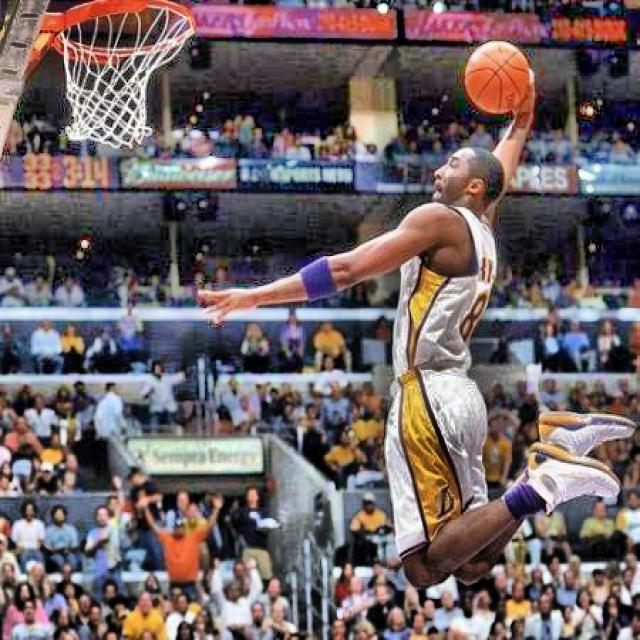board: (465, 41, 529, 114)
rim: (58, 0, 197, 147)
